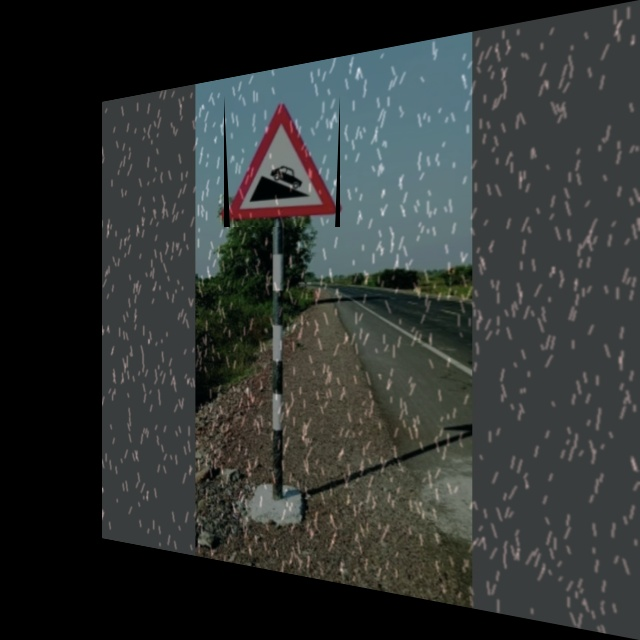Steep_Descent: (224, 95, 340, 227)
